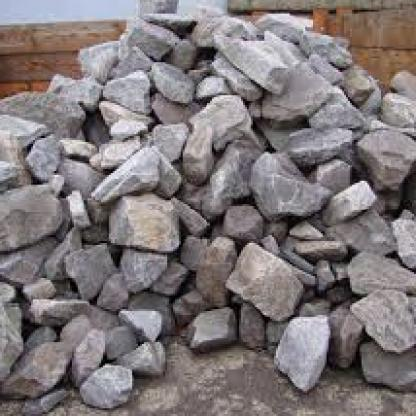Metamorphic_Quartize: (222, 239, 309, 325), (247, 140, 330, 222), (97, 188, 185, 260), (2, 181, 68, 262), (352, 126, 415, 203), (219, 22, 292, 88), (177, 90, 253, 152), (268, 313, 335, 379), (74, 313, 120, 389), (101, 64, 158, 121), (177, 124, 223, 183)
